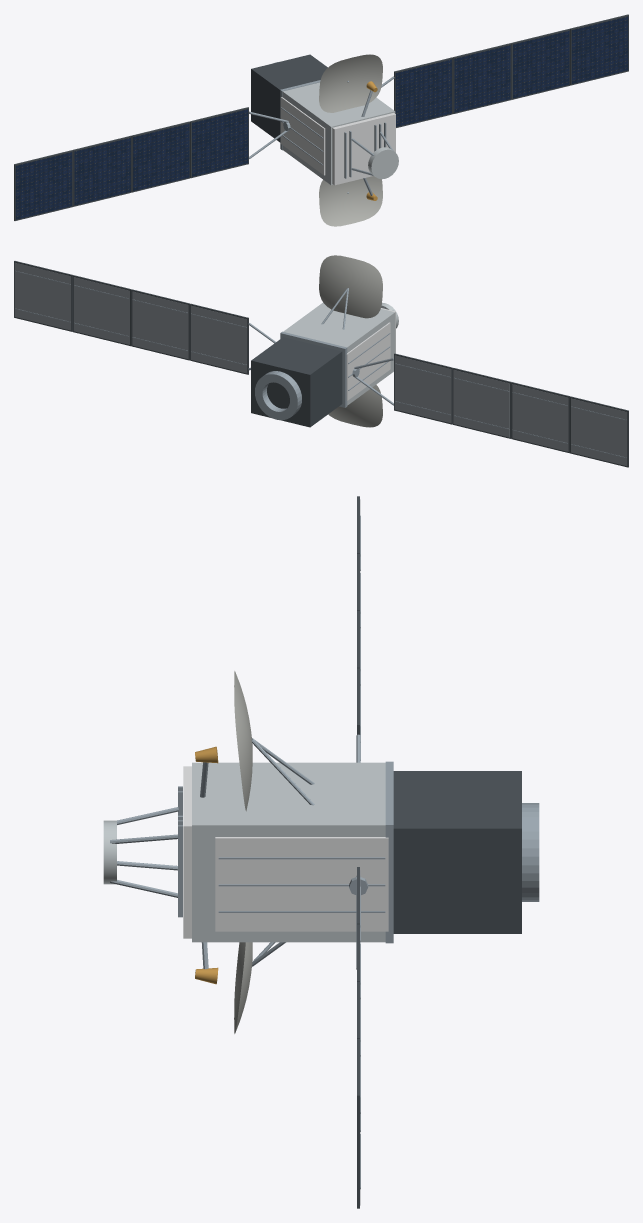
The model's file is ref-star-2-4e-38741.glb.
3 renders of one model, top to bottom at view 1: azimuth 30°, elevation 25°; view 2: azimuth 150°, elevation 25°; view 3: azimuth 270°, elevation 25°, orthographic. The views are drawn at different scales.
Visible parts, largest first — view 1: Solar cell panel (×8), Communications reflector (×2), Solar panel frame (×8), Service module, Earth-facing deck, Payload module, Radiator face, Antenna tower platform; view 2: Rear array substrate (×8), Service module, Communications reflector (×2), Solar panel frame (×8), Payload module, Radiator face, Launch adapter ring, Module interface; view 3: Service module, Payload module, Radiator face, Communications reflector (×2), Launch adapter ring, Earth-facing deck, Module interface.
Boxes of the visible parts, box(x1,y1,x2,y2) form: Solar cell panel (×8): box(15, 16, 628, 219); Communications reflector (×2): box(319, 54, 382, 226); Solar panel frame (×8): box(14, 14, 628, 220); Service module: box(251, 54, 327, 142); Earth-facing deck: box(332, 113, 395, 185); Payload module: box(282, 82, 395, 185); Radiator face: box(280, 97, 325, 175); Antenna tower platform: box(368, 147, 398, 179); Rear array substrate (×8): box(14, 262, 627, 465); Service module: box(251, 337, 342, 427); Communications reflector (×2): box(319, 255, 382, 427); Solar panel frame (×8): box(14, 261, 628, 467); Payload module: box(283, 302, 395, 405); Radiator face: box(346, 322, 390, 400); Launch adapter ring: box(255, 371, 301, 420); Module interface: box(280, 331, 347, 407); Service module: box(393, 771, 521, 933); Payload module: box(192, 762, 385, 942); Radiator face: box(215, 837, 388, 931); Communications reflector (×2): box(234, 671, 252, 1033); Launch adapter ring: box(522, 803, 539, 901); Earth-facing deck: box(183, 766, 191, 938); Module interface: box(385, 761, 393, 943).
Bounding box in the file's own units: 22.98 × 5.94 × 7.05.
8 materials, 1 textured.
